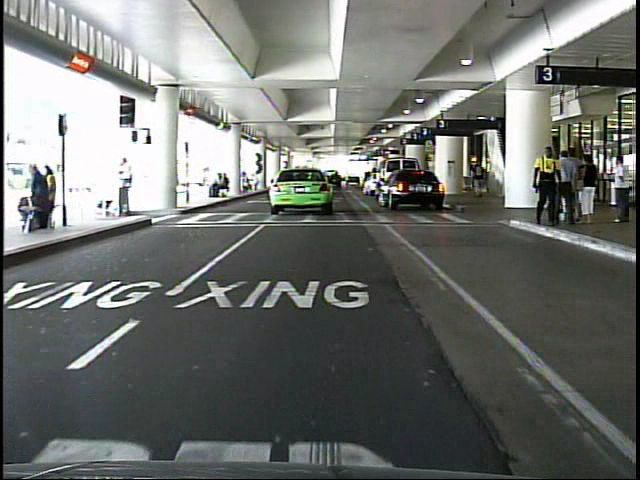person: (525, 146, 563, 236), (604, 152, 635, 225), (555, 145, 580, 233), (112, 158, 145, 224), (578, 151, 597, 232), (468, 157, 493, 205)
